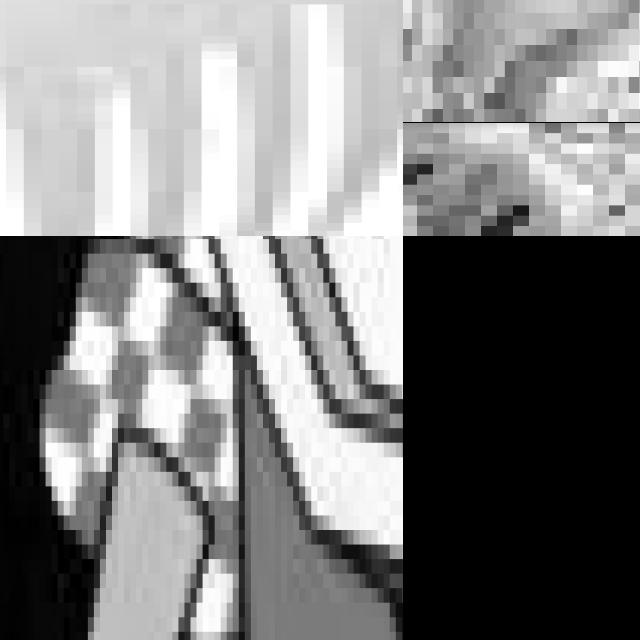forks: (0, 0, 403, 236)
spoons: (403, 0, 610, 236)
